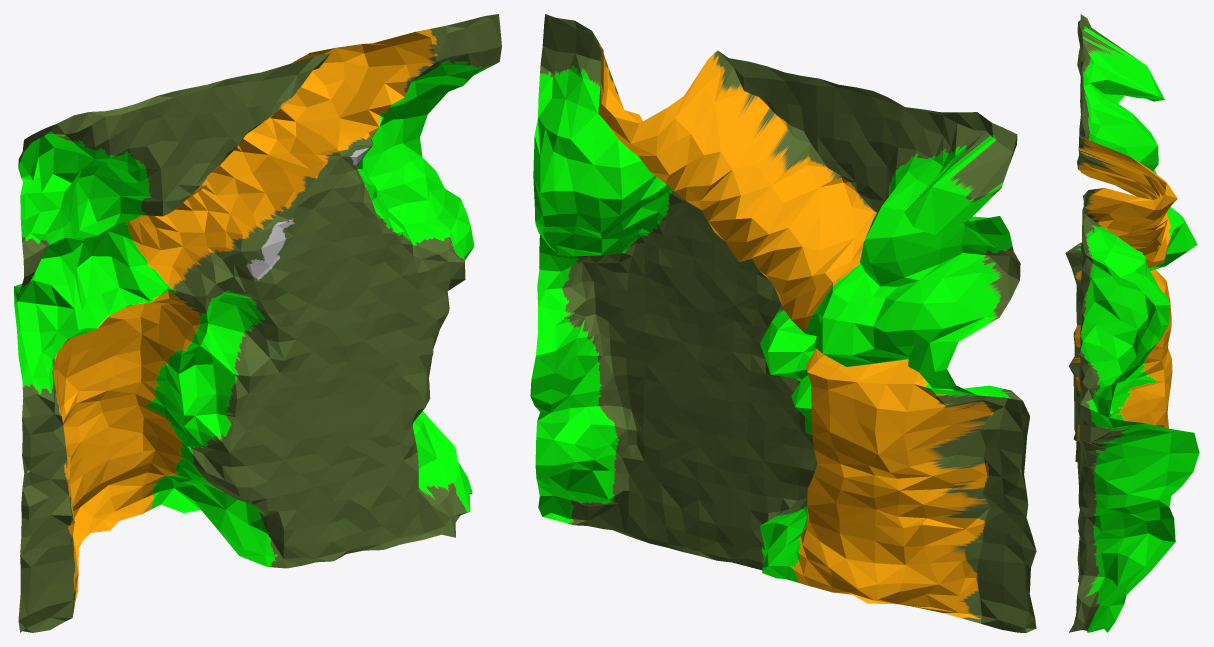
Rendered from refine_semantic.obj.
3 views of the same model, side by side, from view 1: azimuth 30°, elevation 25°; view 2: azimuth 150°, elevation 25°; view 3: azimuth 270°, elevation 25° (orthographic). The views are drawn at different scales.
Bounding box in the file's own units: 74.37 × 74.54 × 20.2.
1 material, 1 textured.
